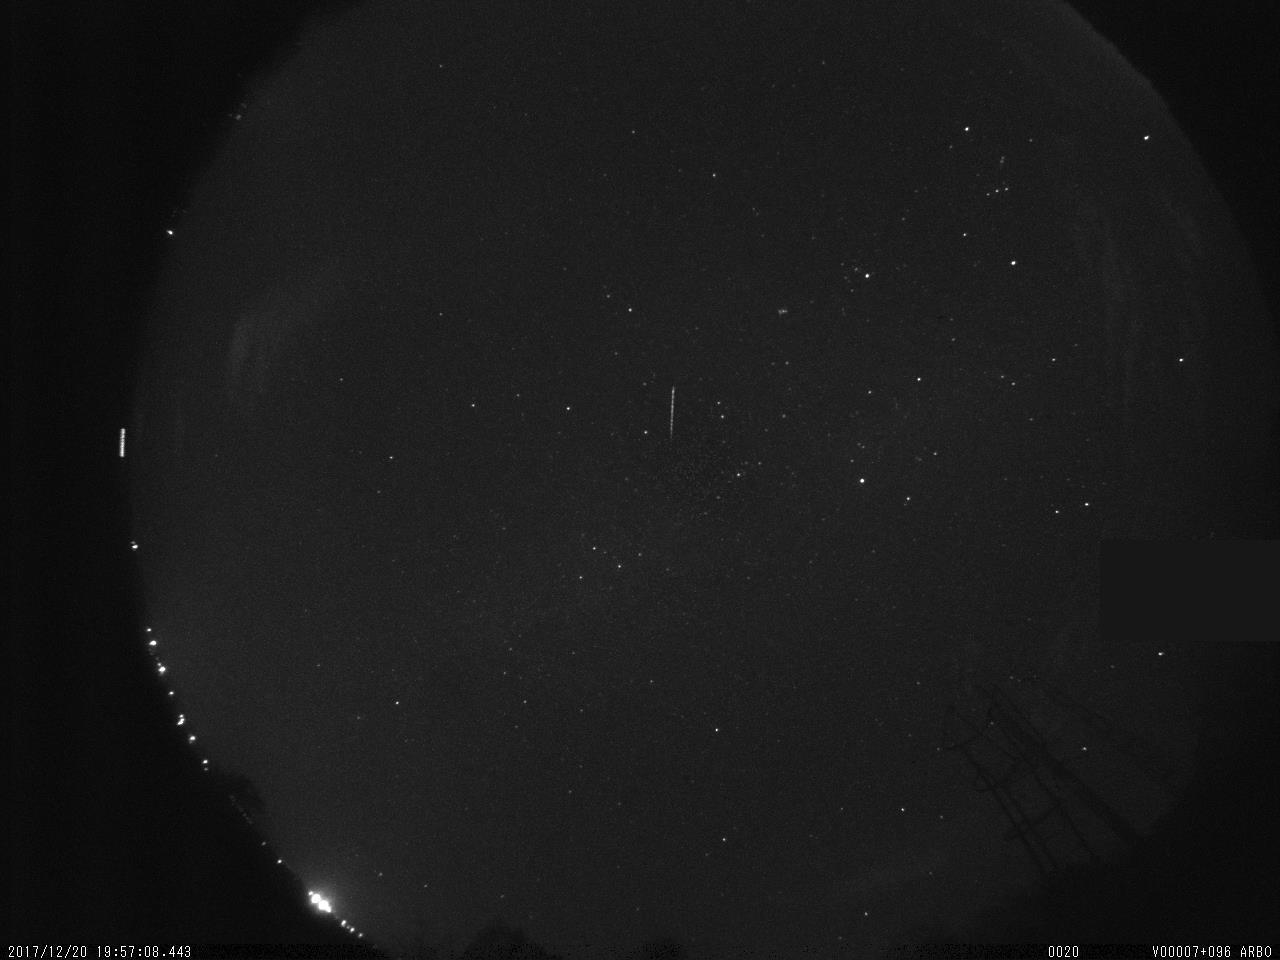meteor: (659, 377, 682, 445)
